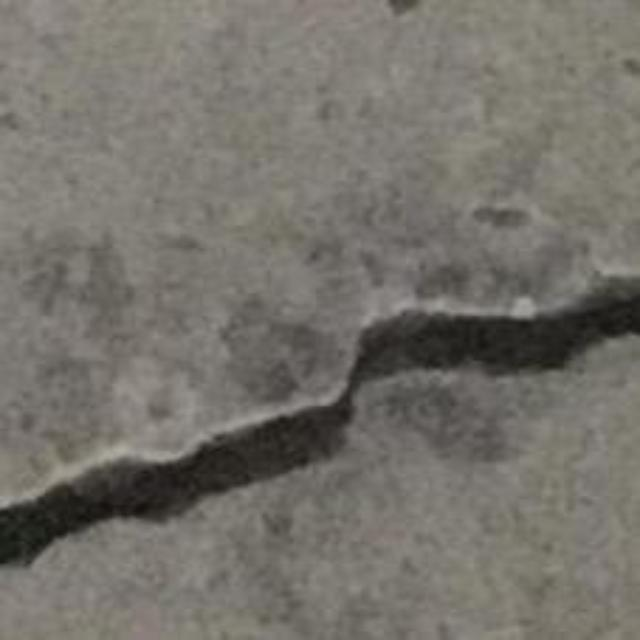crack: (0, 280, 639, 563)
